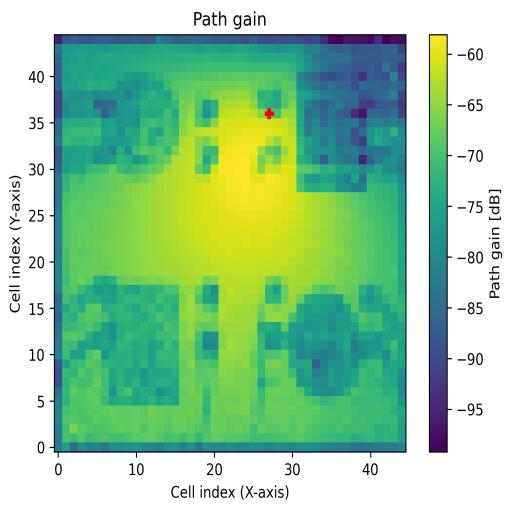Concrete: (296, 72, 368, 192)
Glass: (108, 70, 179, 176)
Metal: (288, 284, 360, 396)
Wood: (102, 286, 180, 406)
